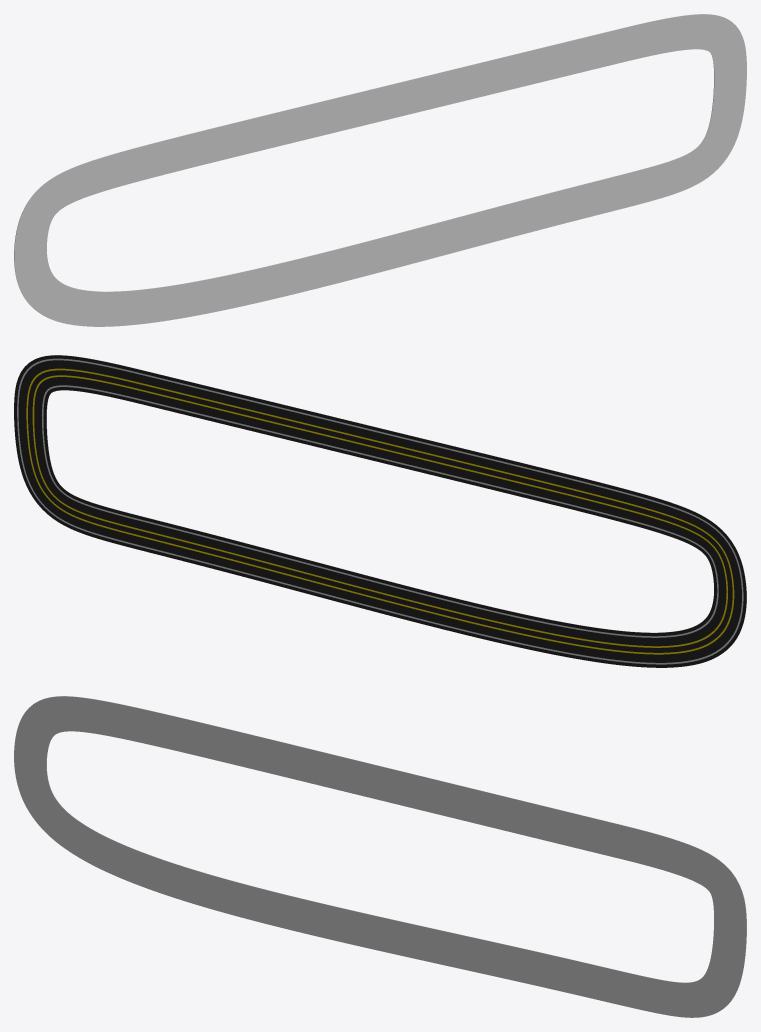
Rendered from CALLE13.fbx.
3 renders of one model, top to bottom at view 1: azimuth 30°, elevation 25°; view 2: azimuth 150°, elevation 25°; view 3: azimuth 330°, elevation 25°, orthographic.
Visible parts, largest first — view 1: Calle.001; view 2: Calle.001; view 3: Calle.001.
Boxes of the visible parts, x1=… form: Calle.001: x1=14, y1=14, x2=746, y2=326; Calle.001: x1=14, y1=355, x2=746, y2=667; Calle.001: x1=14, y1=696, x2=746, y2=1017.
Bounding box in the file's own units: 32414 × 7853 × 23.81.
